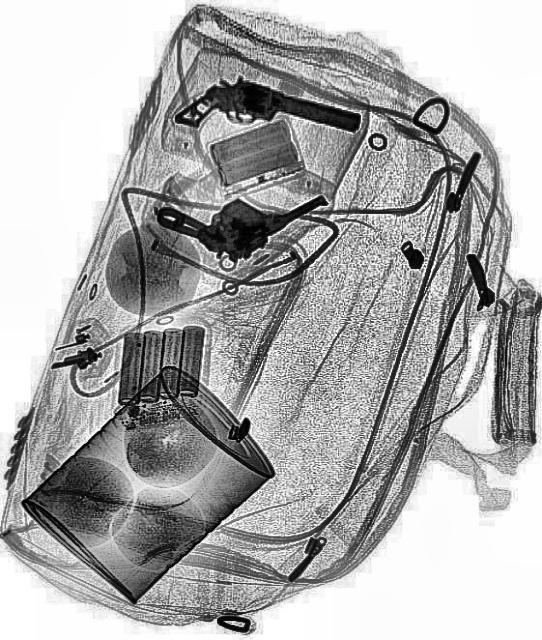Gun: (154, 128, 328, 286), (174, 62, 360, 172)
